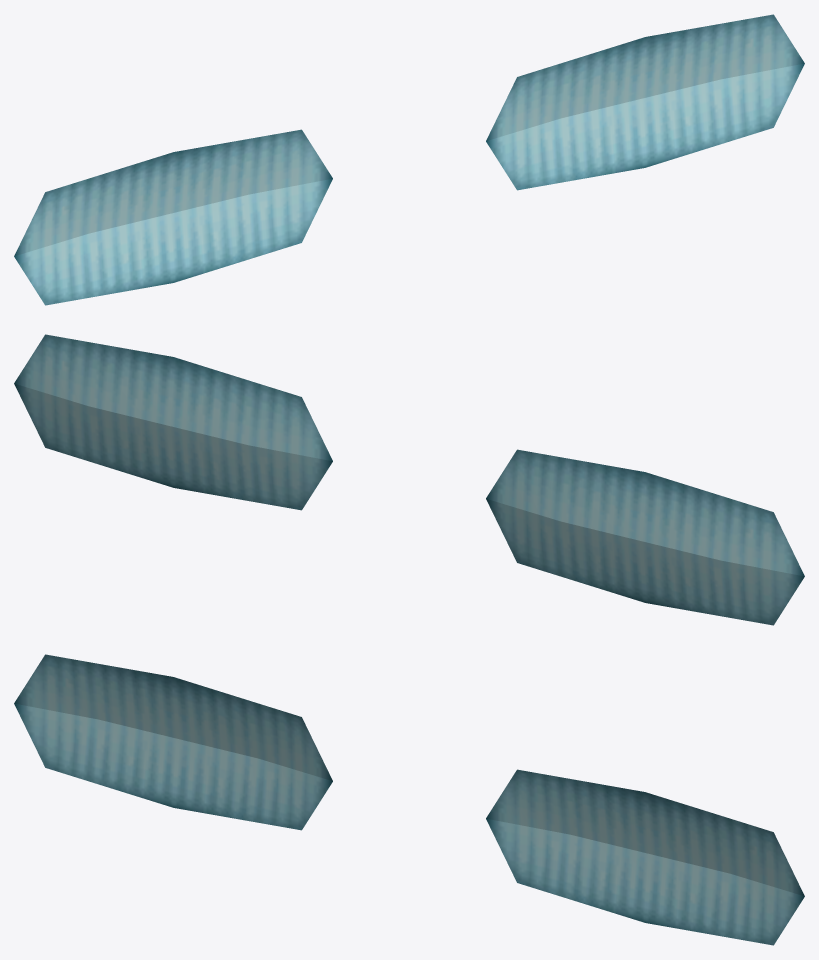
The model's file is ykl37r_engine_s02_on_l1.fbx.
3 views of the same model, one above another, from view 1: azimuth 30°, elevation 25°; view 2: azimuth 150°, elevation 25°; view 3: azimuth 330°, elevation 25° (orthographic).
Parts seen in each view (by area): view 1: mesh_node; view 2: mesh_node; view 3: mesh_node.
Boxes of the visible parts, x1,y1,x2,y2 form: mesh_node: (14,14,804,305); mesh_node: (14,334,804,625); mesh_node: (14,654,804,945).
Bounding box in the file's own units: 10.57 × 1.67 × 0.1084.
